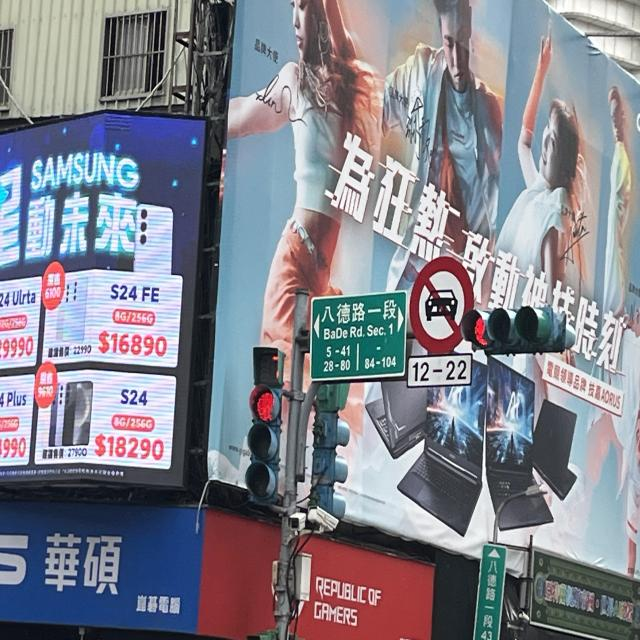red light: (462, 310, 568, 357), (250, 384, 281, 504)
